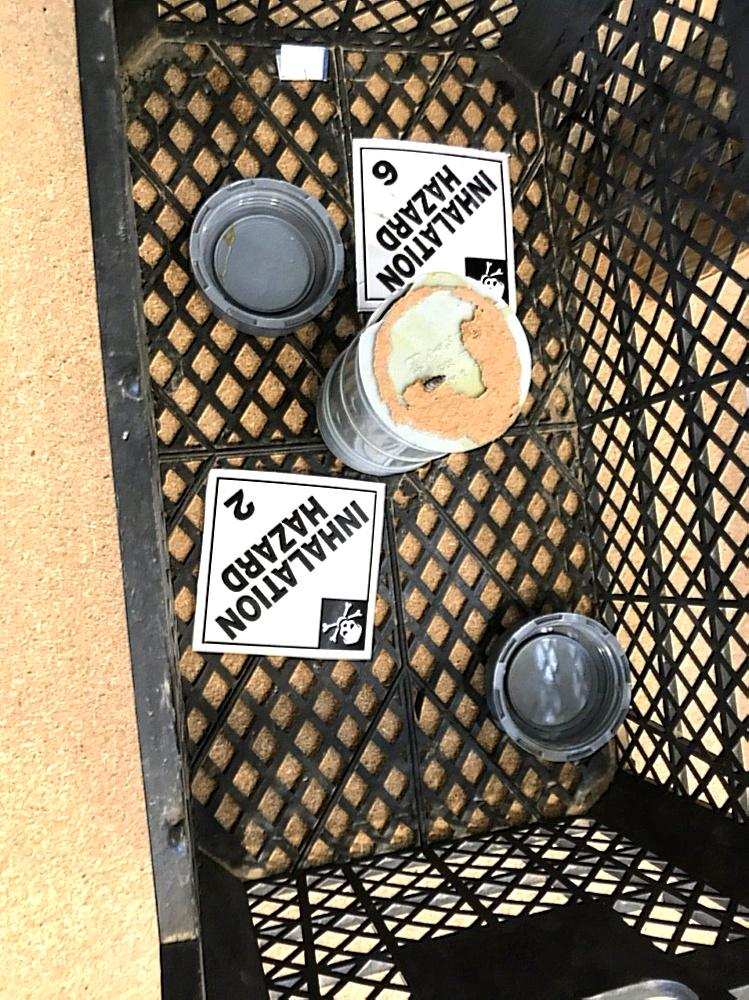poison: (199, 466, 384, 655), (353, 139, 518, 319)
